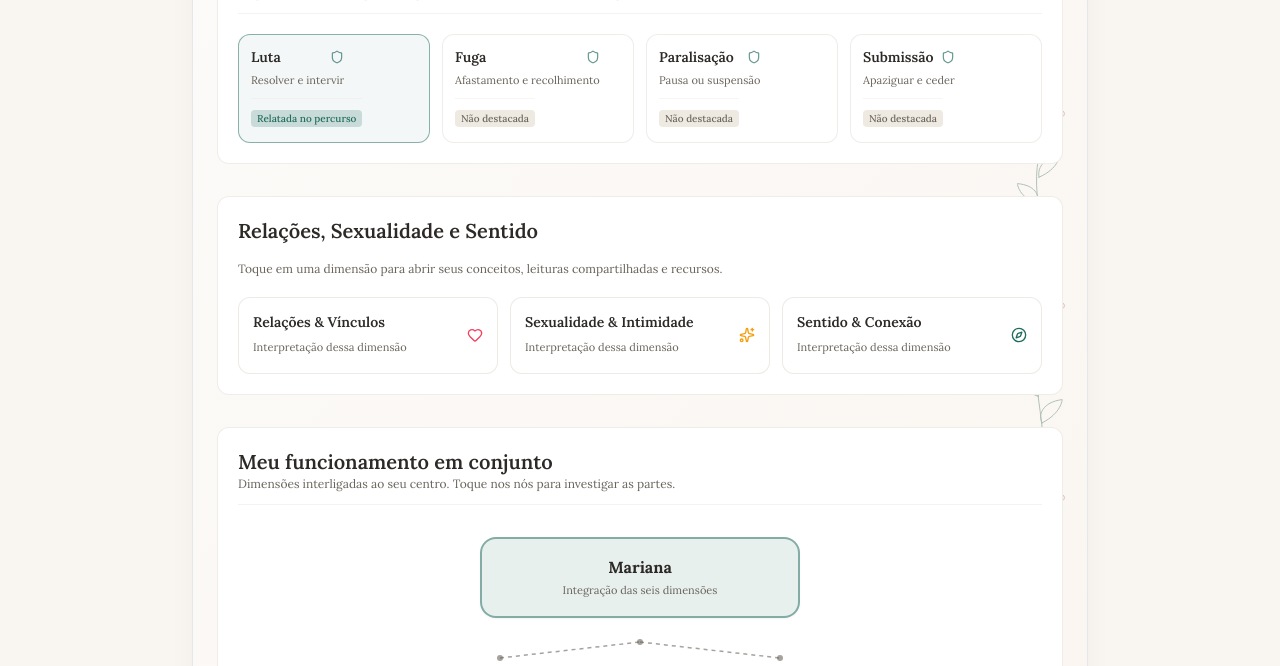
Test: Mapa CER: percurso de leitura e teclado › Sexualidade e Sentido têm leitura própria e não recebem explicação de doshas
(page scrolled)
Click the button with aria-label "Interpretação dessa dimensão: Sexualidade & Intimidade" at (609, 322), box left=510, top=297, right=770, bottom=374
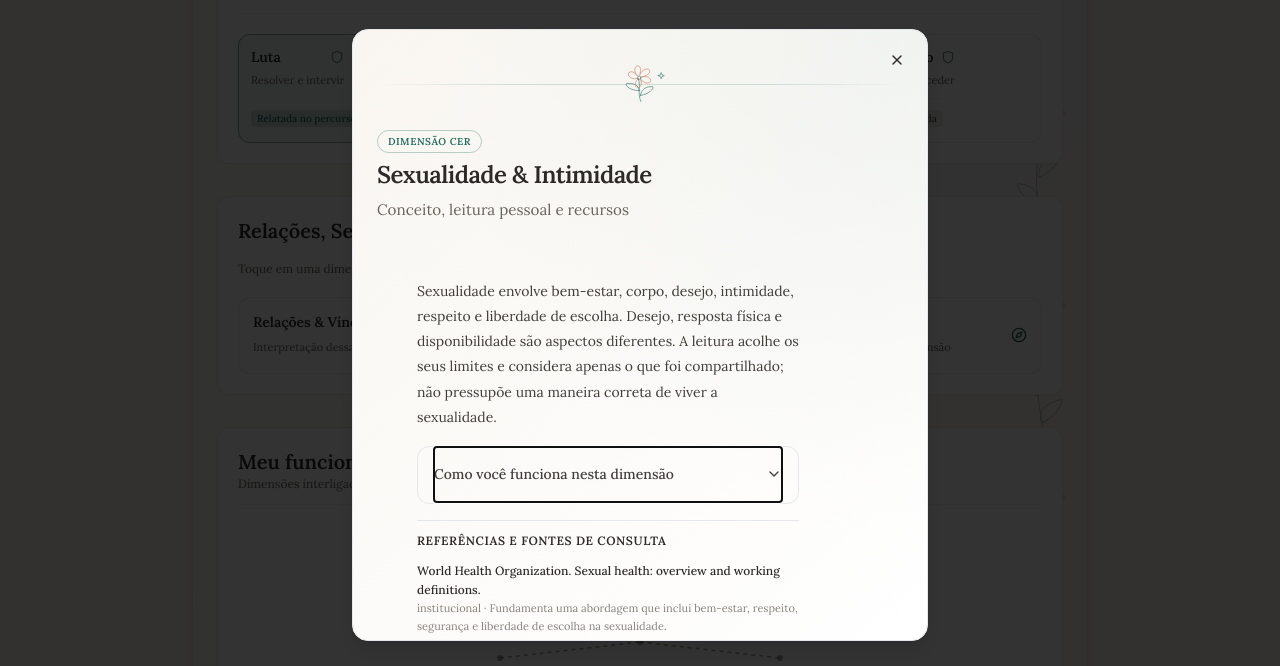
Result: the heading "Sexualidade & Intimidade" is shown at left=377, top=159, right=652, bottom=190
Click the button "Como você funciona nesta dimensão" at (608, 474), box left=434, top=447, right=782, bottom=502
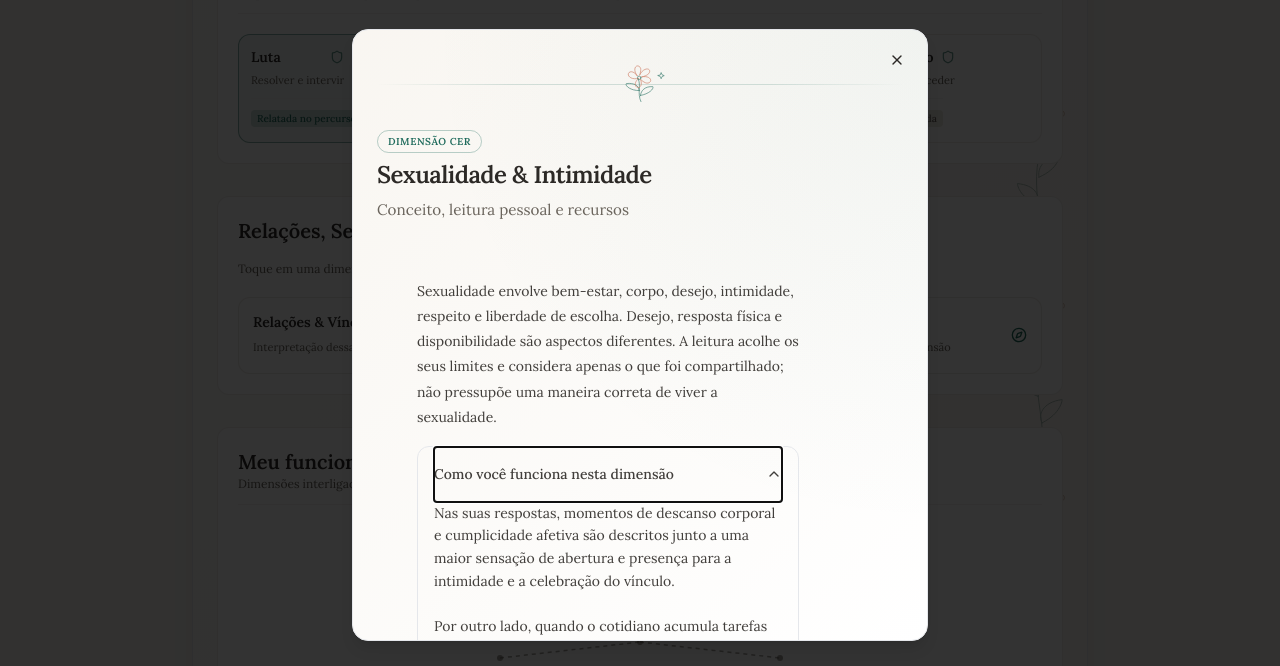
Result: the button "Como você funciona nesta dimensão" is expanded at left=434, top=447, right=782, bottom=502
Press Escape
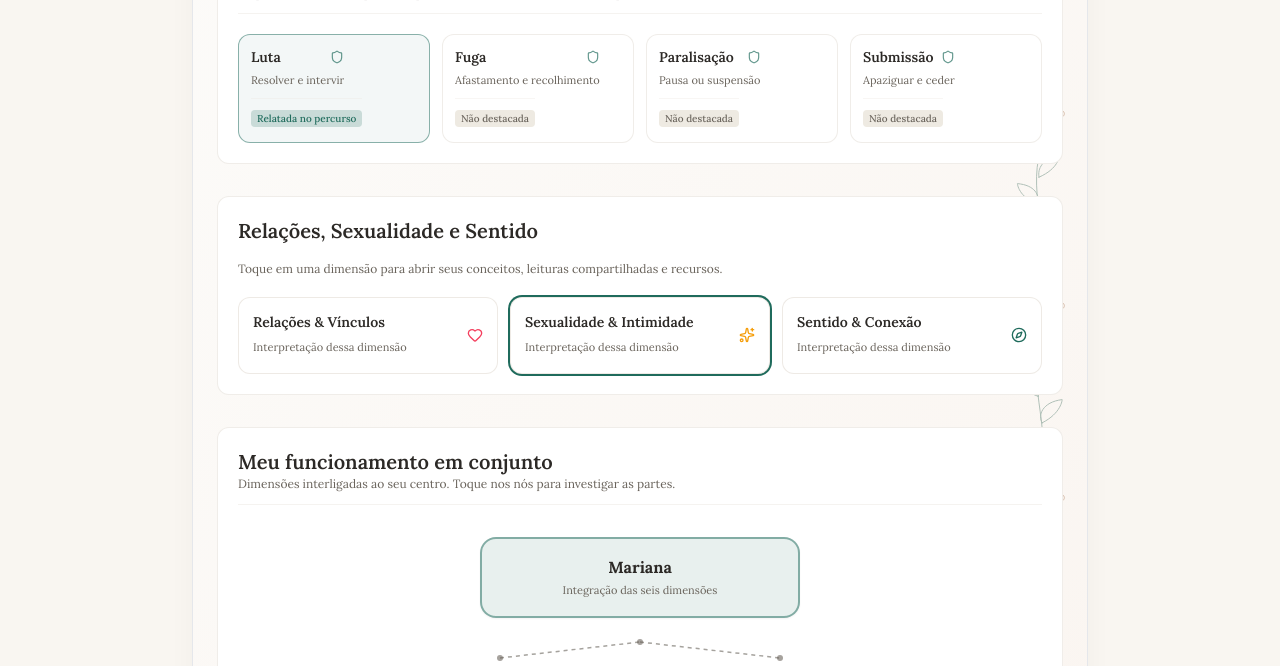
Result: the dialog is gone
Click the button with aria-label "Interpretação dessa dimensão: Sentido & Conexão" at (859, 322), box left=782, top=297, right=1042, bottom=374
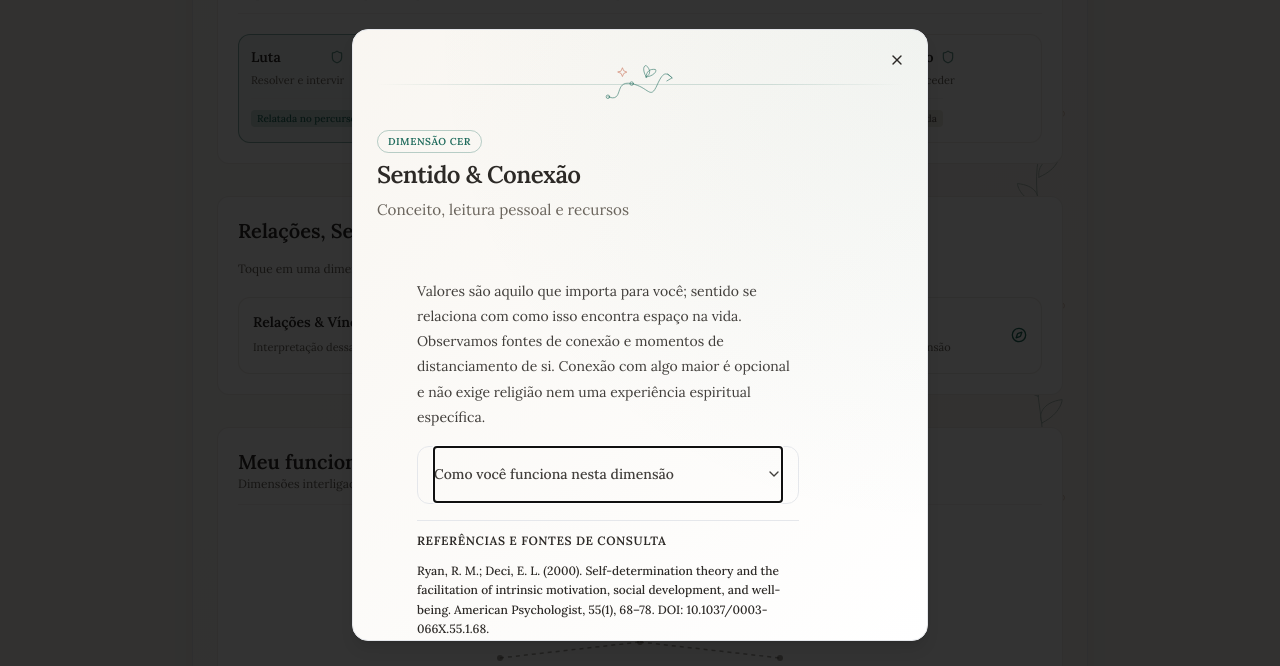
Result: the heading "Sentido & Conexão" is shown at left=377, top=159, right=580, bottom=190
Click the button "Como você funciona nesta dimensão" at (608, 474), box left=434, top=447, right=782, bottom=502
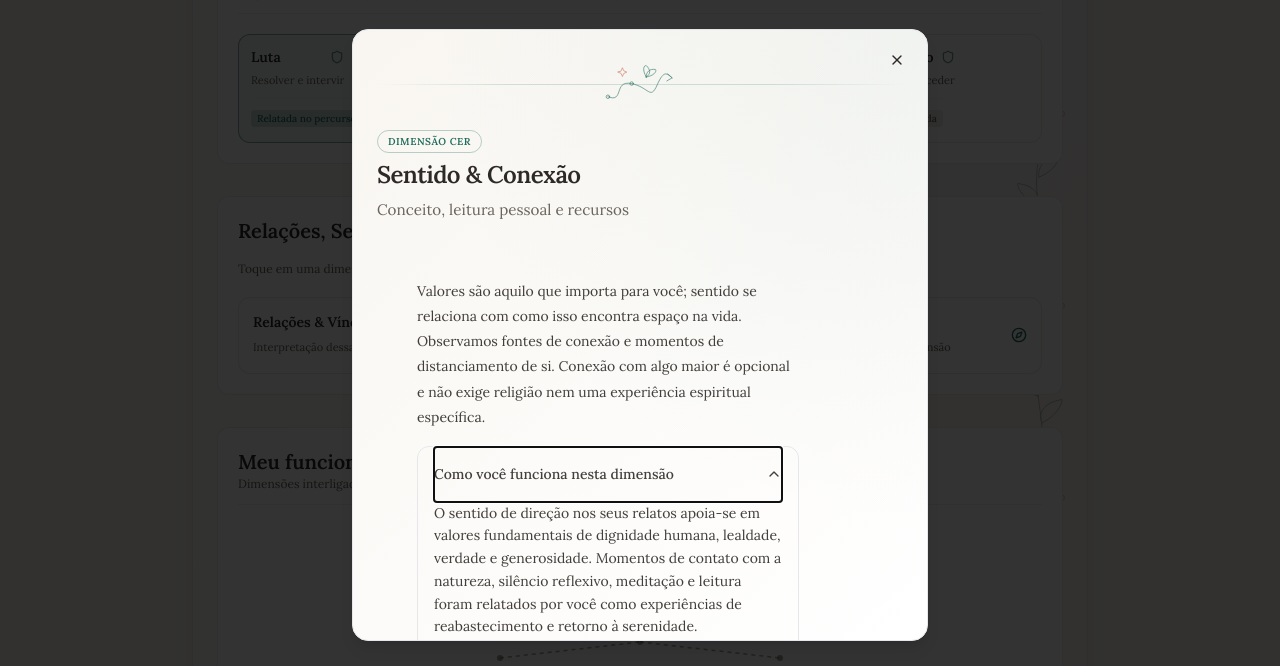
Result: the button "Como você funciona nesta dimensão" is expanded at left=434, top=447, right=782, bottom=502
Press Escape
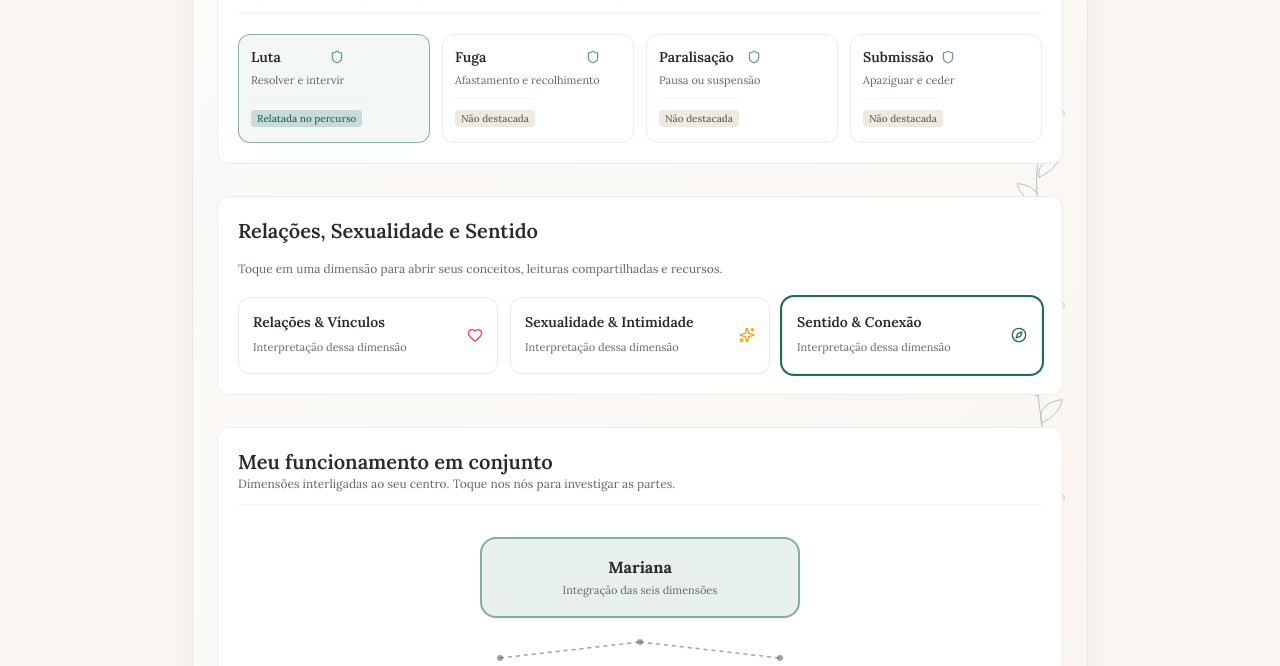
Result: the dialog is gone
